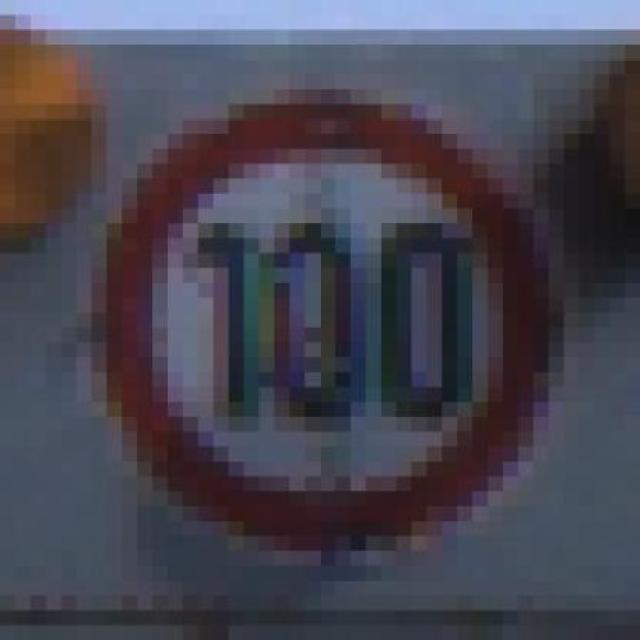forb_speed_over_100: (113, 99, 550, 556)
